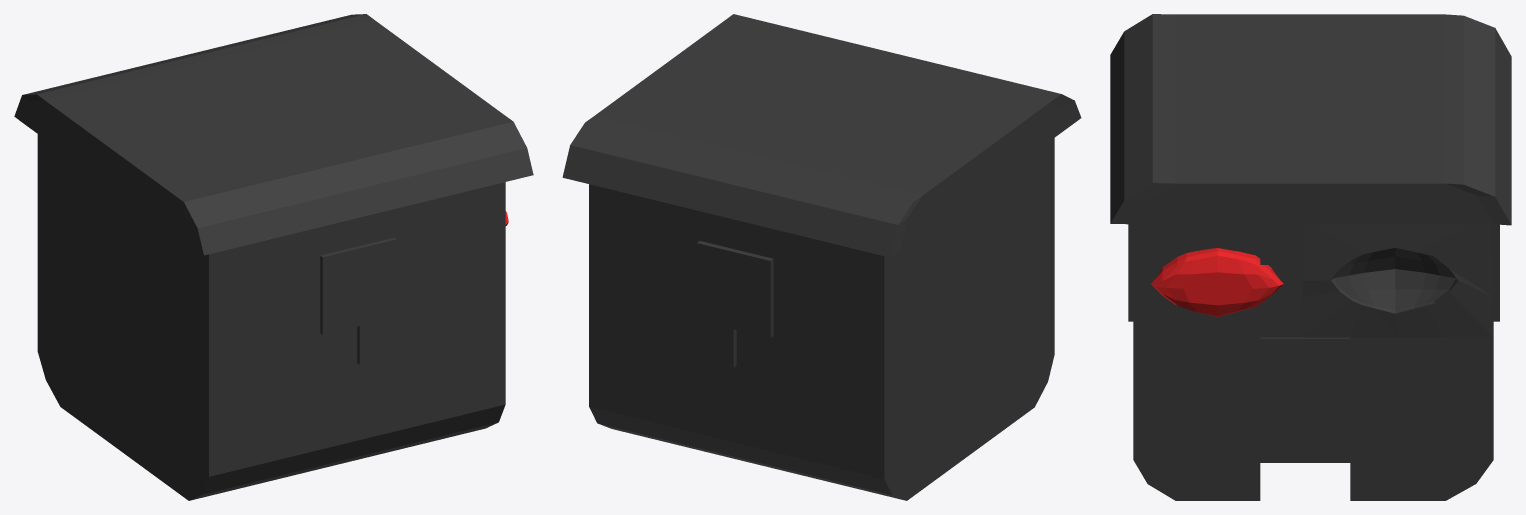
The model's file is Head.fbx.
3 renders of one model, left to right at view 1: azimuth 30°, elevation 25°; view 2: azimuth 150°, elevation 25°; view 3: azimuth 270°, elevation 25°, orthographic. The views are drawn at different scales.
Parts seen in each view (by area): view 1: GemSocket; view 2: GemSocket; view 3: GemSocket, Gem.
Boxes of the visible parts, x1,y1,x2,y2 form: GemSocket: (14,14,533,500); GemSocket: (562,14,1081,500); GemSocket: (1110,14,1511,500); Gem: (1151,248,1283,316).
Bounding box in the file's own units: 223 × 200 × 223.
